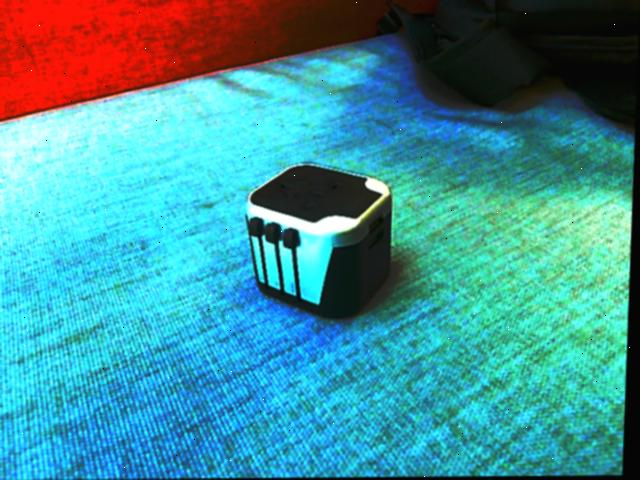adapter: (242, 161, 396, 319)
